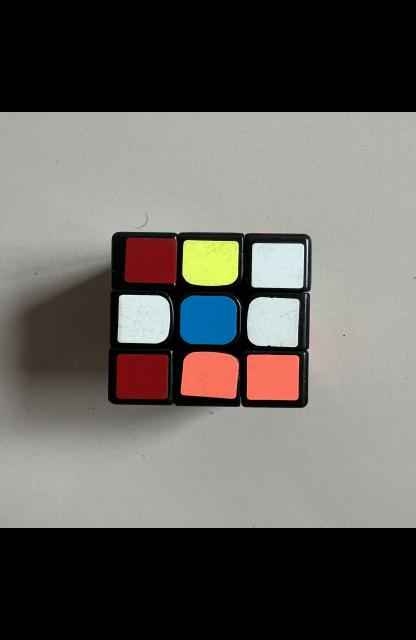Blue: (179, 295, 237, 345)
Orange: (179, 351, 238, 399), (245, 355, 298, 400)
Red: (123, 238, 176, 283), (116, 354, 168, 399)
White: (245, 297, 299, 347), (117, 295, 169, 344), (250, 243, 303, 289)
Yellow: (182, 240, 238, 286)
